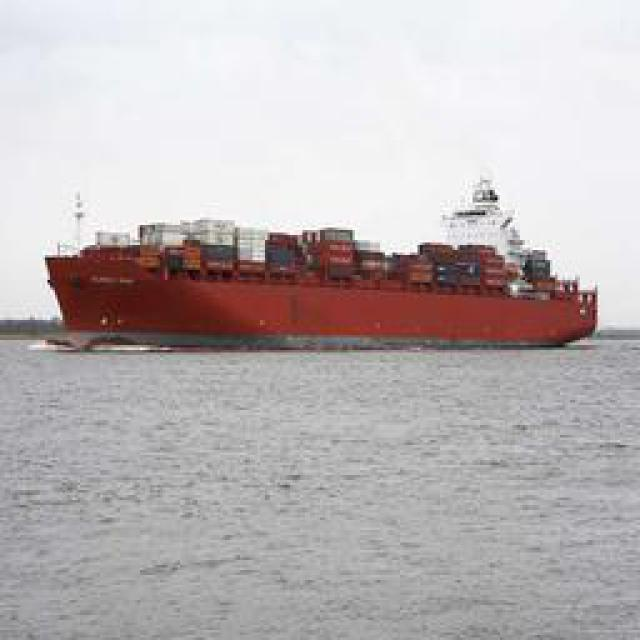Ship: (31, 169, 609, 354)
